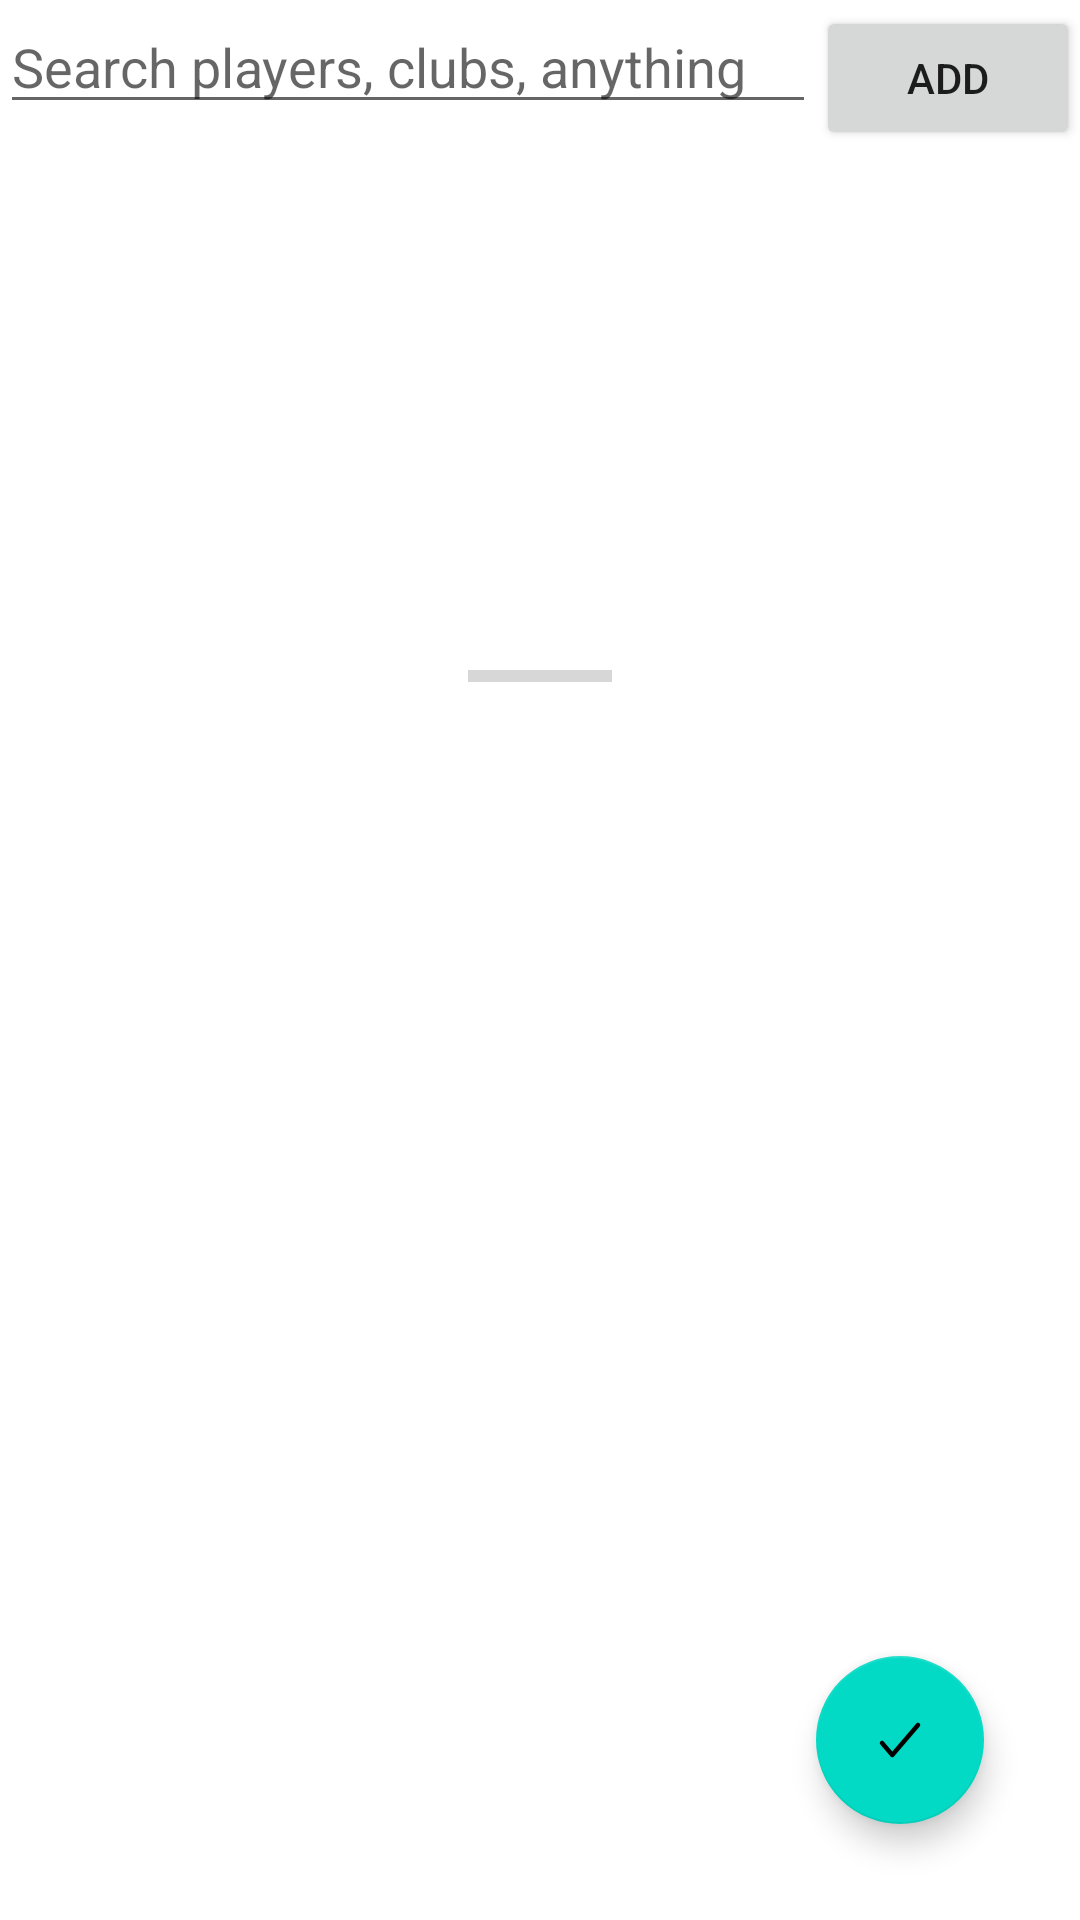

Locate icon controls on the screen. Image size 1080 × 1920, boxes as (x1, y1, x2, y2).
tick: (816, 1656, 984, 1824)
